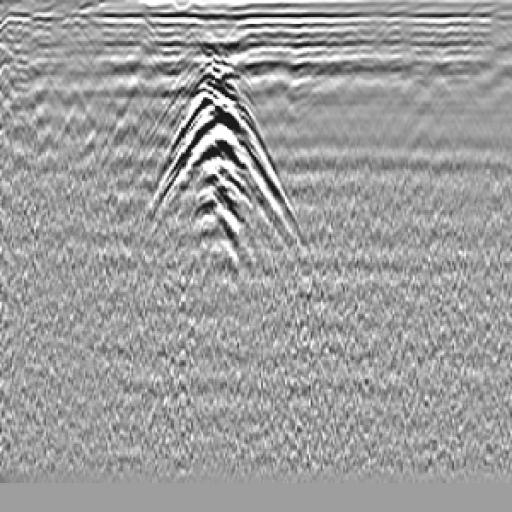metalic: (123, 47, 319, 260)
